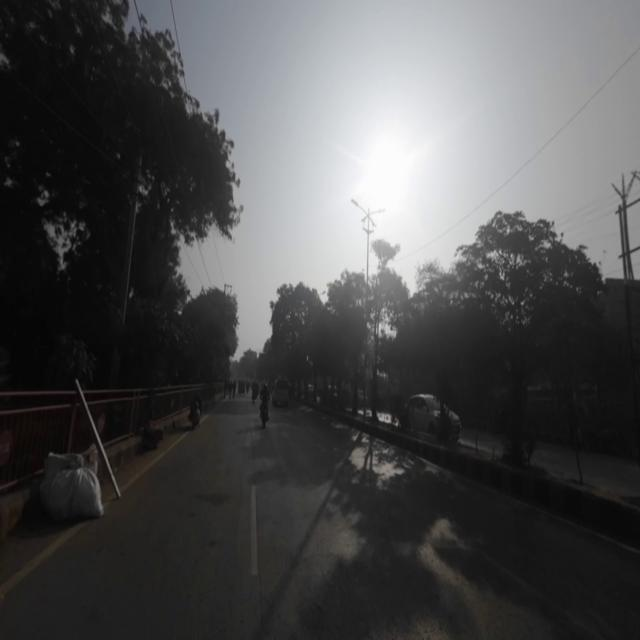Garbage: (36, 443, 104, 523)
